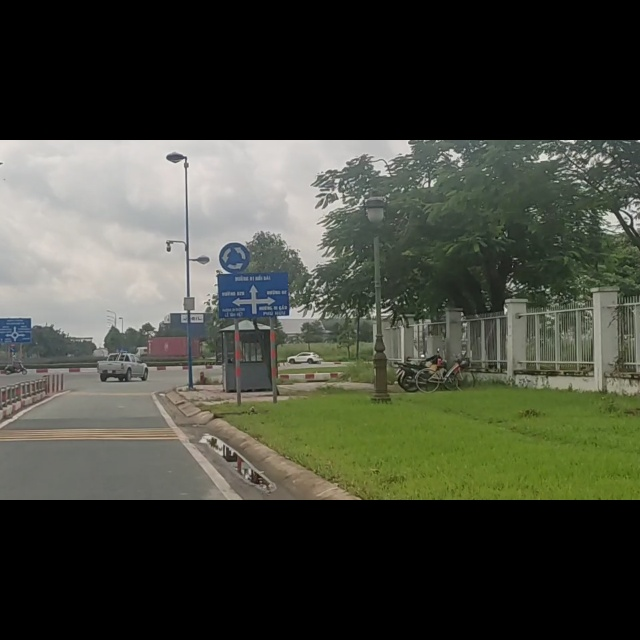bien_chi_dan: (217, 179, 251, 233)
